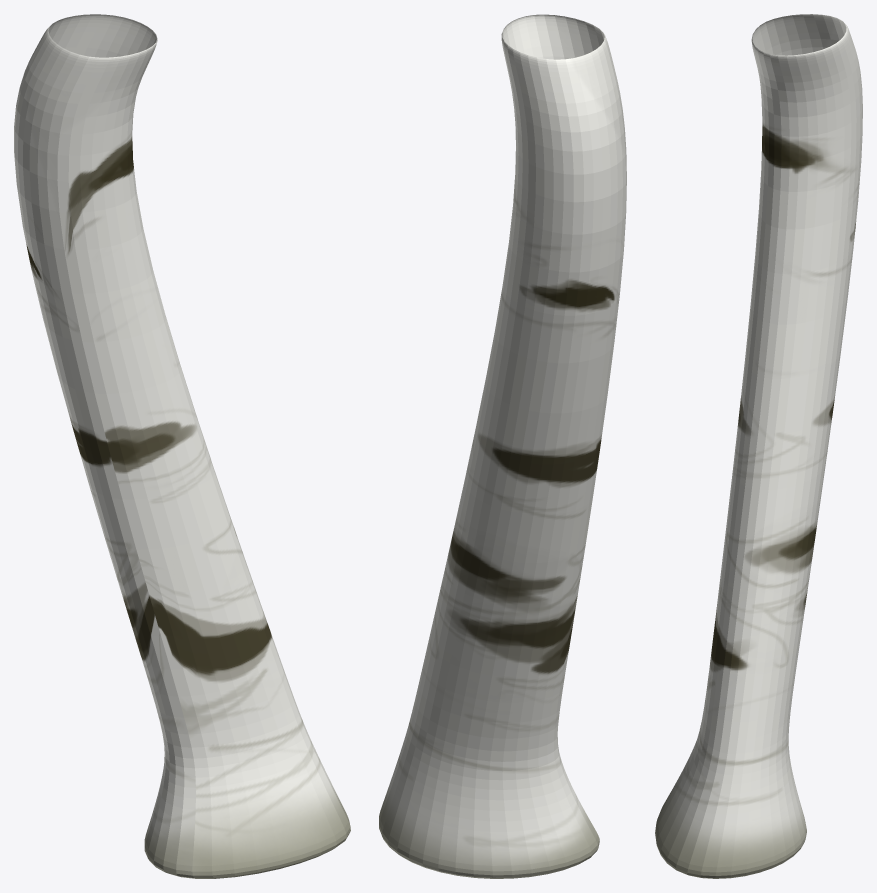
The model's file is birch_tree_stump 1.fbx.
3 renders of one model, left to right at view 1: azimuth 30°, elevation 25°; view 2: azimuth 150°, elevation 25°; view 3: azimuth 270°, elevation 25°, orthographic. The views are drawn at different scales.
Visible parts, largest first — view 1: Cube; view 2: Cube; view 3: Cube.
Boxes of the visible parts, x1=… form: Cube: x1=14, y1=14, x2=350, y2=878; Cube: x1=379, y1=14, x2=626, y2=878; Cube: x1=655, y1=14, x2=862, y2=878.
Size of the model in its own units: 155 by 451 by 111.
1 material, 1 textured.
